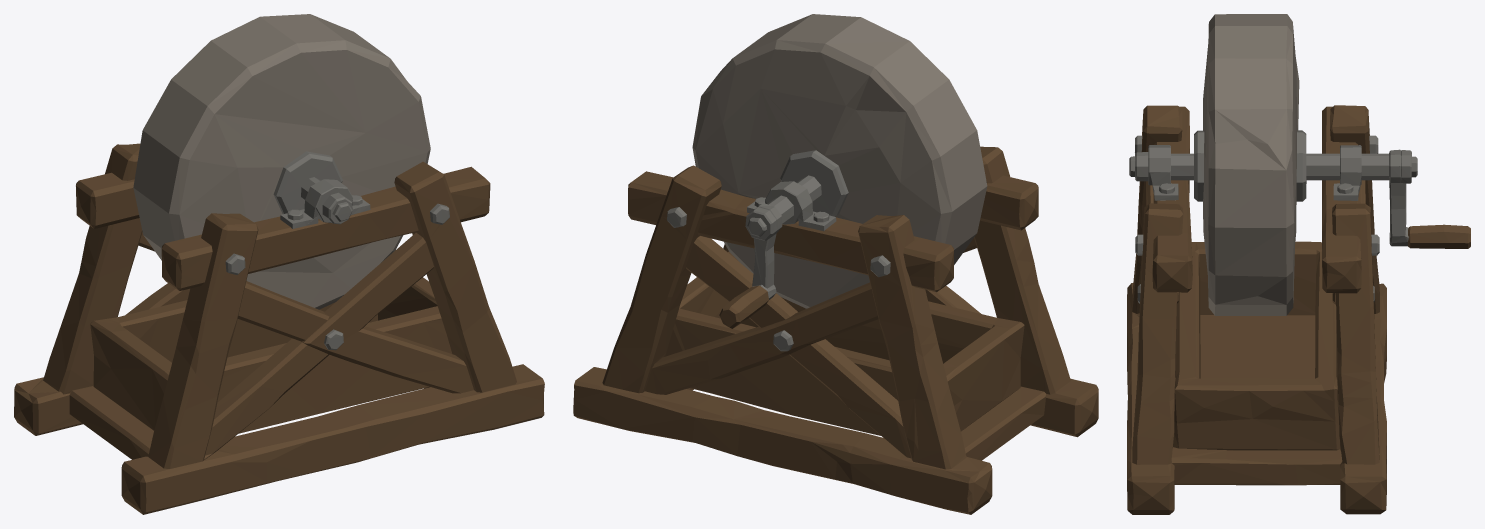
The model's file is WoodenGrindstone.fbx.
3 renders of one model, left to right at view 1: azimuth 30°, elevation 25°; view 2: azimuth 150°, elevation 25°; view 3: azimuth 270°, elevation 25°, orthographic.
Parts seen in each view (by area): view 1: WoodenGrindstone_Main, WoodenGrindstone_Part1; view 2: WoodenGrindstone_Main, WoodenGrindstone_Part1; view 3: WoodenGrindstone_Main, WoodenGrindstone_Part1.
Part boxes in pixels (x1,y1,x2,y2): WoodenGrindstone_Main: [14, 143, 544, 514]; WoodenGrindstone_Part1: [133, 14, 430, 309]; WoodenGrindstone_Main: [573, 146, 1098, 514]; WoodenGrindstone_Part1: [692, 14, 987, 328]; WoodenGrindstone_Main: [1127, 105, 1386, 514]; WoodenGrindstone_Part1: [1129, 14, 1470, 315].
Bounding box in the file's own units: 1.1 × 0.805 × 1.01.
